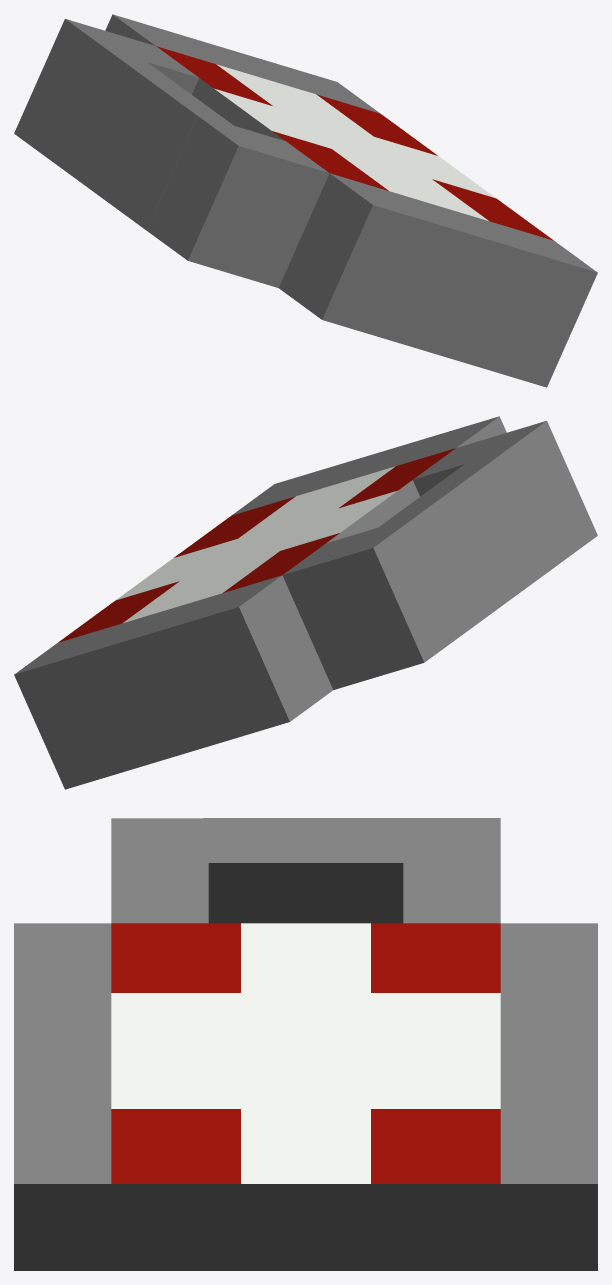
Rendered from Medkit.fbx.
3 views of the same model, one above another, from view 1: azimuth 30°, elevation 25°; view 2: azimuth 150°, elevation 25°; view 3: azimuth 270°, elevation 25° (orthographic). The views are drawn at different scales.
Parts seen in each view (by area): view 1: Medkit; view 2: Medkit; view 3: Medkit.
Boxes of the visible parts, <box> form: Medkit: <box>14,14,597,387</box>; Medkit: <box>14,416,597,789</box>; Medkit: <box>14,818,597,1270</box>.
Bounding box in the file's own units: 283 × 203 × 348.
